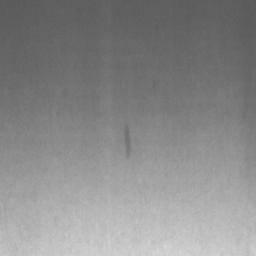Inclusion: (124, 123, 132, 159)
